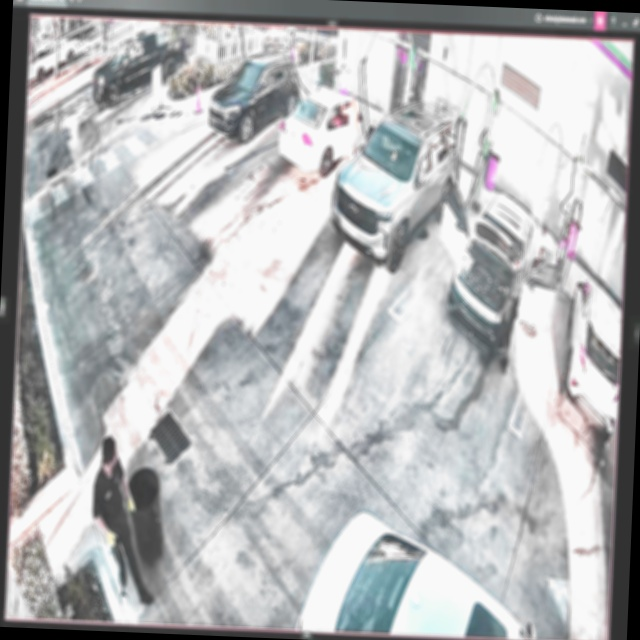Car: (331, 98, 460, 274), (437, 175, 561, 353), (277, 89, 378, 175)
